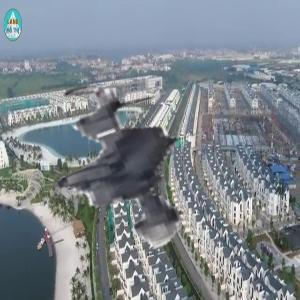drone: (51, 55, 257, 261)
